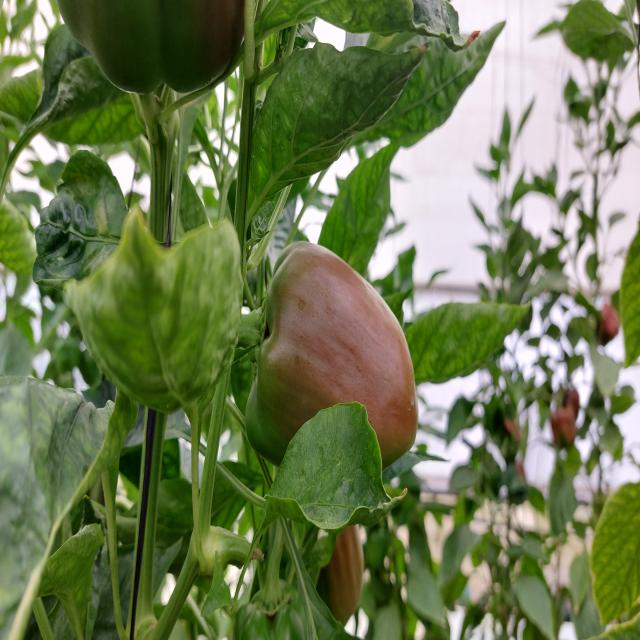BrownishRed--Can-be-Harvested: (249, 266, 422, 489), (69, 7, 252, 96), (271, 496, 385, 636)
